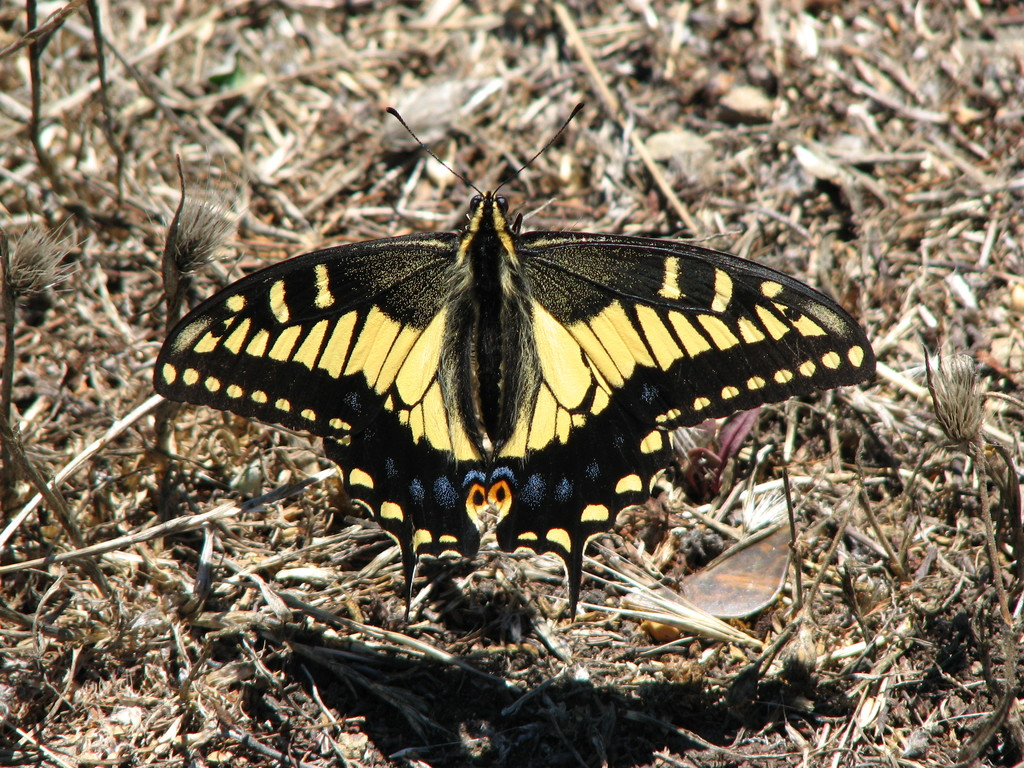Butterfly: (126, 190, 879, 640)
